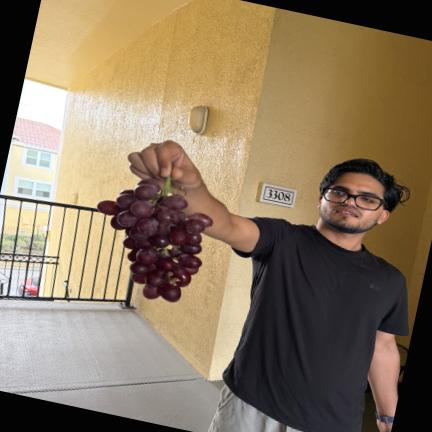grape_cluster: (97, 177, 212, 302)
